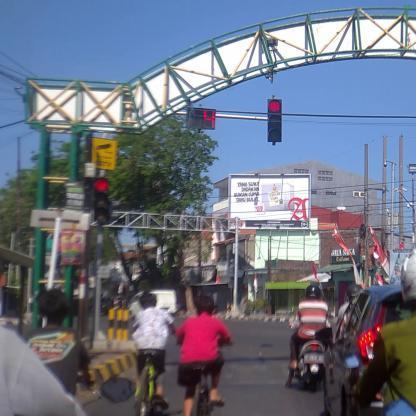red: (94, 178, 109, 224), (268, 99, 282, 142)
